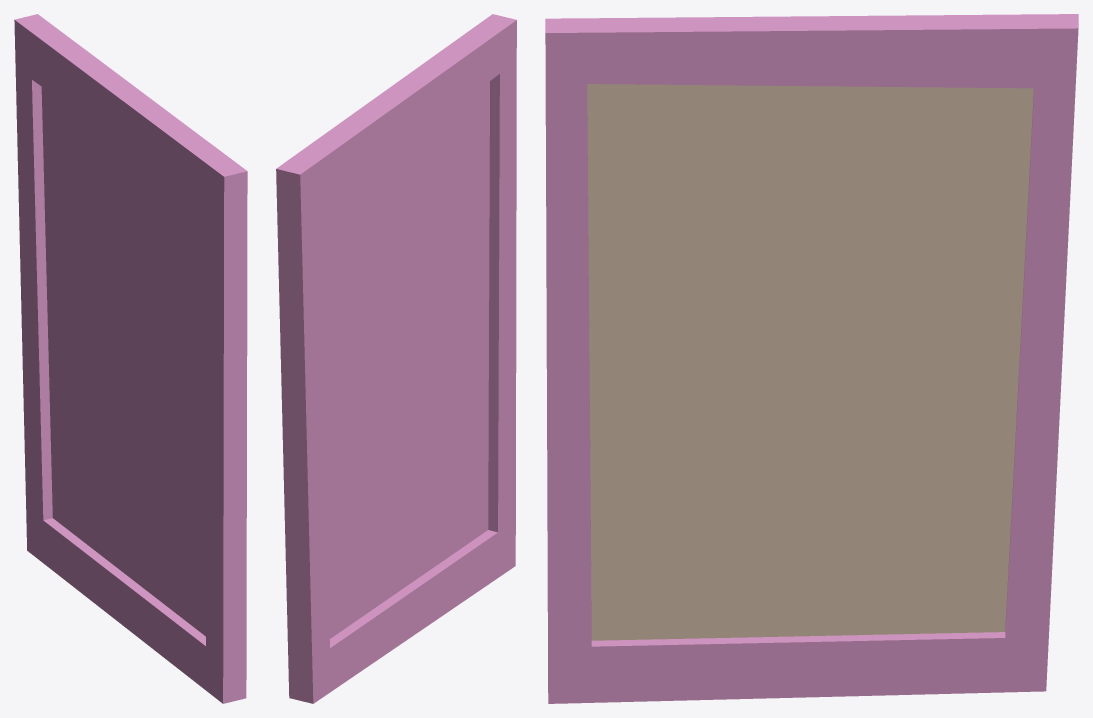
The model's file is Book.fbx.
3 renders of one model, left to right at view 1: azimuth 30°, elevation 25°; view 2: azimuth 150°, elevation 25°; view 3: azimuth 270°, elevation 25°, orthographic. The views are drawn at different scales.
Parts seen in each view (by area): view 1: Cube.017; view 2: Cube.017; view 3: Cube.017.
Part boxes in pixels (<box>): Cube.017: <box>14,14,247,703</box>; Cube.017: <box>276,14,516,703</box>; Cube.017: <box>545,14,1078,703</box>.
Size of the model in its own units: 7.45 by 162 by 116.
